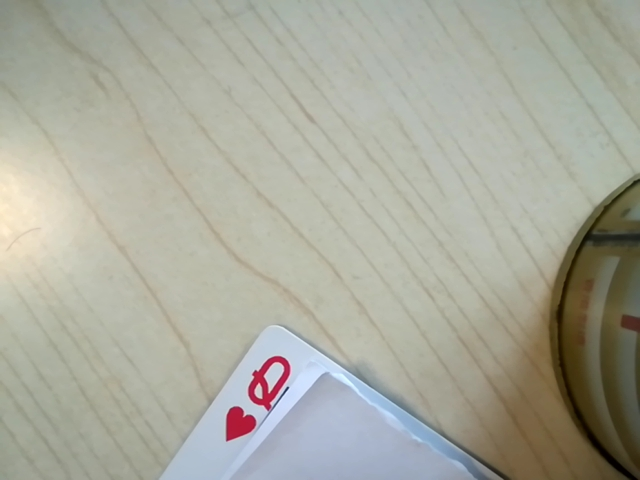hx q: (222, 343, 305, 450)
